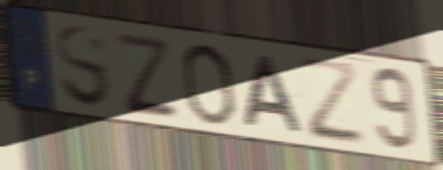9: (370, 64, 421, 156)
A: (241, 54, 307, 136)
O: (178, 41, 238, 128)
S: (53, 23, 115, 113)
Z: (296, 54, 369, 148), (111, 29, 182, 119)
